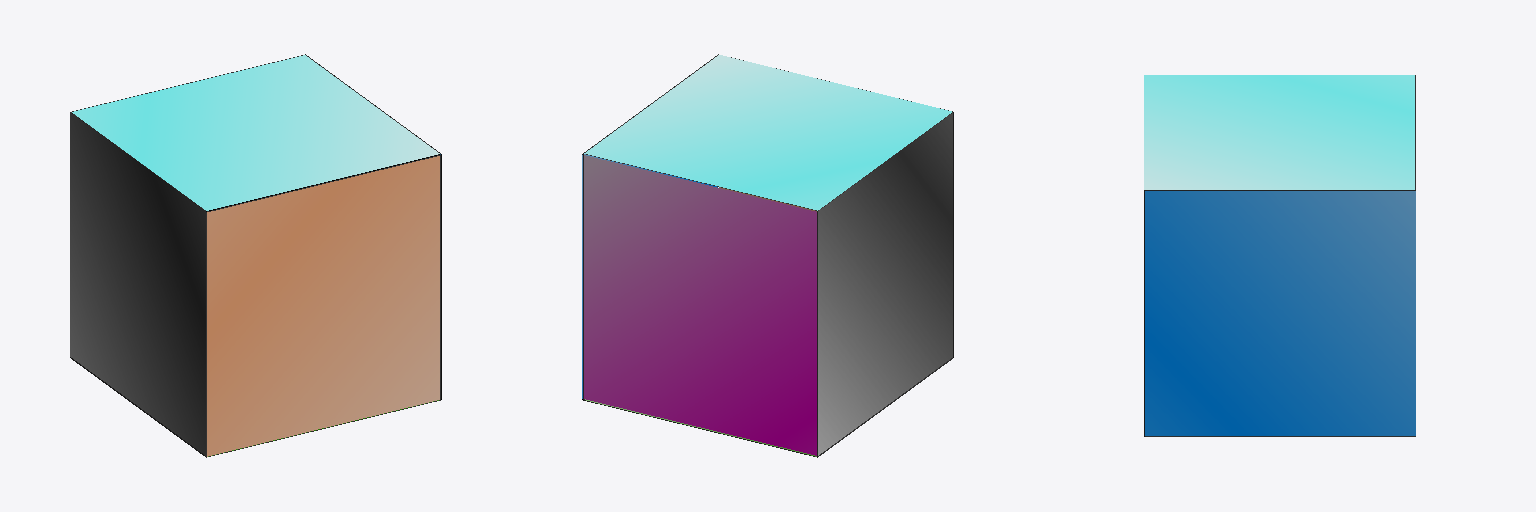
3 views of the same model, side by side, from view 1: azimuth 30°, elevation 25°; view 2: azimuth 150°, elevation 25°; view 3: azimuth 270°, elevation 25° (orthographic).
Visible parts, largest first — view 1: Cube_Cube.001; view 2: Cube_Cube.001; view 3: Cube_Cube.001.
Part boxes in pixels (left/top/right/bottom): Cube_Cube.001: left=70, top=54, right=441, bottom=457; Cube_Cube.001: left=582, top=54, right=953, bottom=457; Cube_Cube.001: left=1144, top=75, right=1415, bottom=436.
Bounding box in the file's own units: 2 × 2 × 2.
Materials: 1 (1 with a texture image).